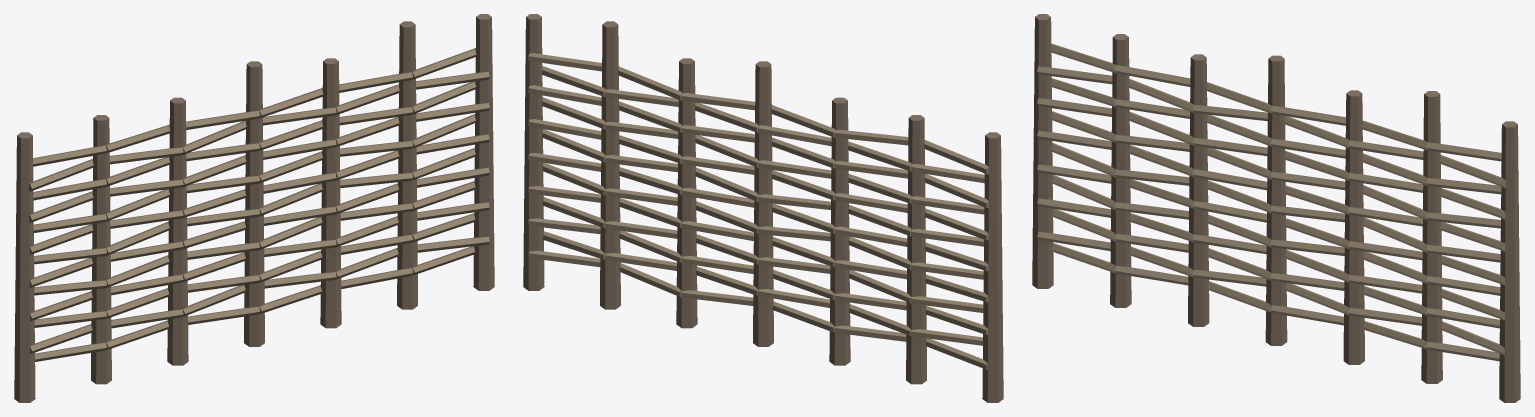
File: Wattle.fbx
3 renders of one model, left to right at view 1: azimuth 30°, elevation 25°; view 2: azimuth 150°, elevation 25°; view 3: azimuth 330°, elevation 25°, orthographic.
Visible parts, largest first — view 1: Wattle; view 2: Wattle; view 3: Wattle.
Part boxes in pixels (x1=…): Wattle: x1=14, y1=14, x2=494, y2=402; Wattle: x1=523, y1=14, x2=1003, y2=402; Wattle: x1=1032, y1=14, x2=1520, y2=402.
Bounding box in the file's own units: 207 × 117 × 9.43.
